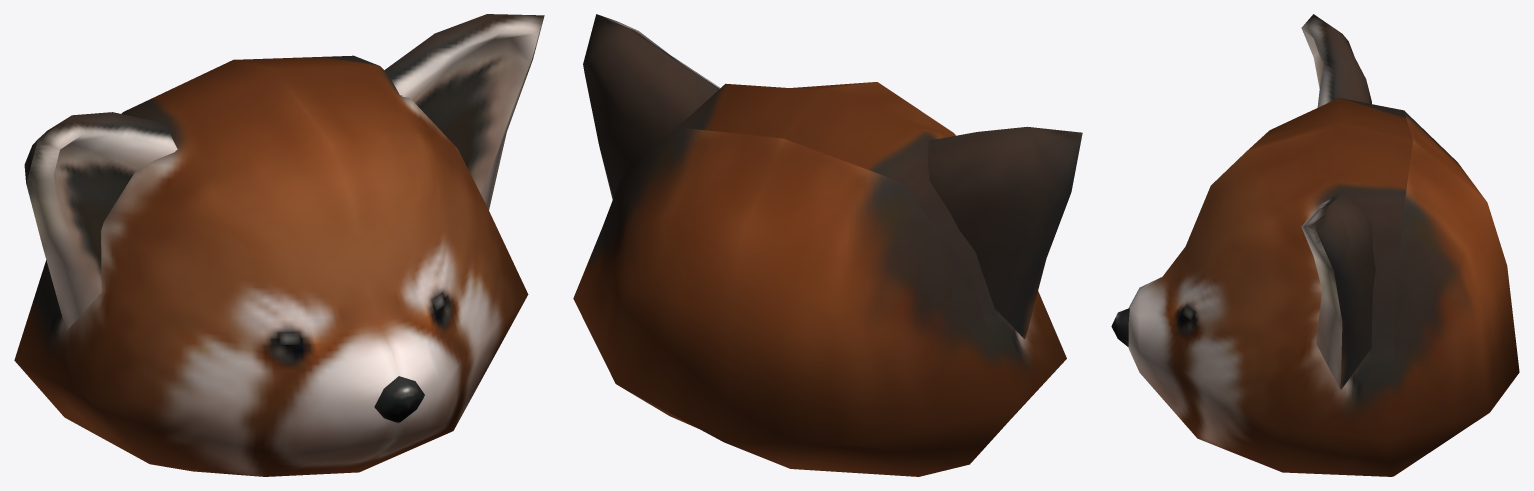
The model's file is Lesser Panda.FBX.
3 renders of one model, left to right at view 1: azimuth 30°, elevation 25°; view 2: azimuth 150°, elevation 25°; view 3: azimuth 270°, elevation 25°, orthographic. The views are drawn at different scales.
Parts seen in each view (by area): view 1: Lesser Panda; view 2: Lesser Panda; view 3: Lesser Panda.
Boxes of the visible parts, x1,y1,x2,y2 form: Lesser Panda: [14, 14, 544, 476]; Lesser Panda: [573, 14, 1082, 476]; Lesser Panda: [1111, 14, 1519, 476].
Size of the model in its own units: 38.3 by 27.3 by 31.25.
